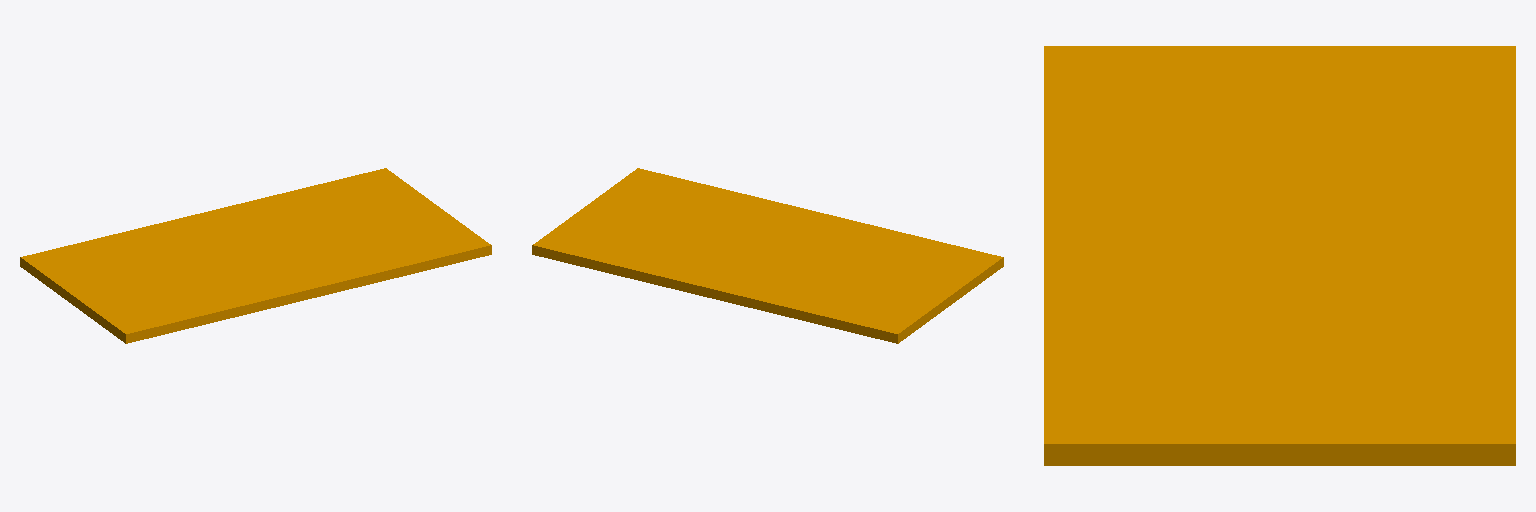
The robot description file, URDF, robot "box/box_bottom_only":
<?xml version="1.0"?>
<robot name="box/box_bottom_only">
 <link name="bottom">
  <inertial>
    <mass value="1"/>
    <inertia ixx="0.3335416666666667" ixy="0" ixz="0" iyy="0.41666666666666663" iyz="0" izz="0.08354166666666665"/>
  </inertial>
  <visual>
    <origin rpy="0 0 0" xyz="0 0 0"/>
    <geometry>
      <box size="2.0 1.0 0.05"/>
    </geometry>
  </visual>
  <collision>
    <origin rpy="0 0 0" xyz="0 0 0"/>
    <geometry>
      <box size="2.0 1.0 0.05"/>
    </geometry>
  </collision>
 </link>

  <klampt package_root="../../.." default_acc_max="4" >
  </klampt>
</robot>

--- What the picture shows (computed from the rendered views, not written in the file) ---
Views: 3 orthographic renders of the robot side by side, from view 1: azimuth 30°, elevation 25°; view 2: azimuth 150°, elevation 25°; view 3: azimuth 270°, elevation 25°.
Model box/box_bottom_only with 1 links and 0 joints (none), rooted at bottom, posed all joints at 0.
Links seen in each view (by area): view 1: bottom; view 2: bottom; view 3: bottom.
Link boxes in pixels (x1=…): bottom: x1=20, y1=168, x2=491, y2=343; bottom: x1=532, y1=168, x2=1003, y2=343; bottom: x1=1044, y1=46, x2=1515, y2=465.
Bounding box of the posed robot: 2 × 1 × 0.05 m (x, y, z).
Geometry: primitives only (box / cylinder / sphere), no mesh files.